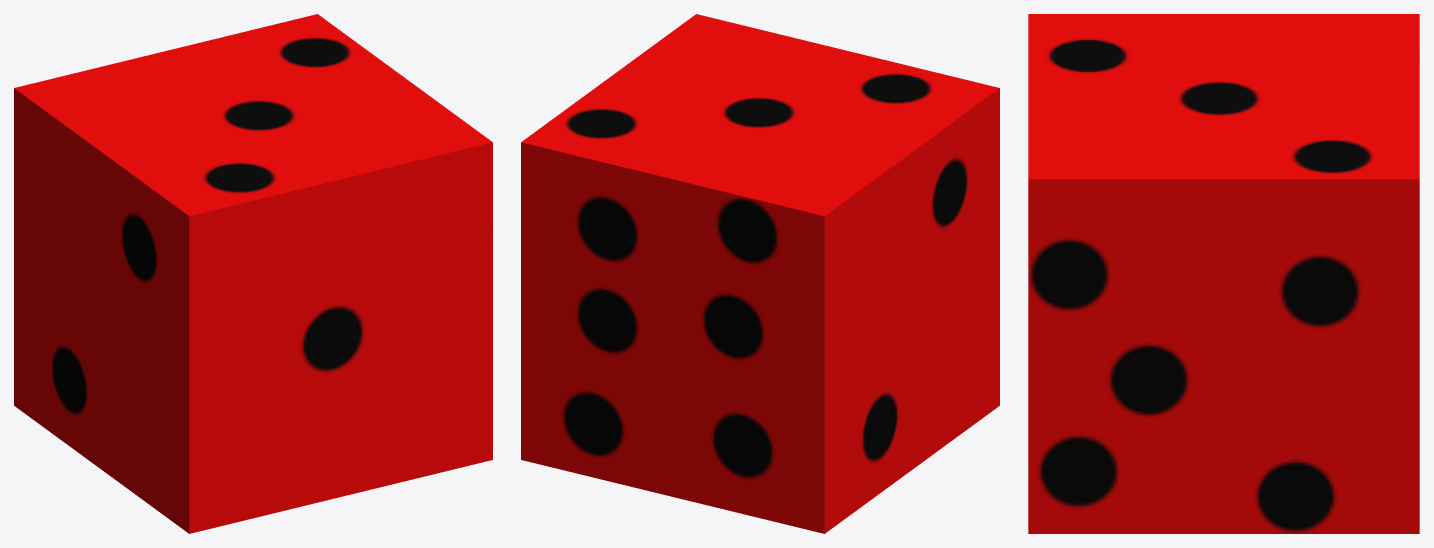
Rendered from Dice.fbx.
The picture shows the model from 3 angles, left to right: view 1: azimuth 30°, elevation 25°; view 2: azimuth 150°, elevation 25°; view 3: azimuth 270°, elevation 25°; orthographic projection. The views are drawn at different scales.
Parts seen in each view (by area): view 1: pCube3; view 2: pCube3; view 3: pCube3.
Boxes of the visible parts, box(x1,y1,x2,y2) form: pCube3: box(14, 14, 492, 533); pCube3: box(521, 14, 999, 533); pCube3: box(1028, 14, 1419, 533).
Bounding box in the file's own units: 1 × 1 × 1.
1 material, 1 textured.
